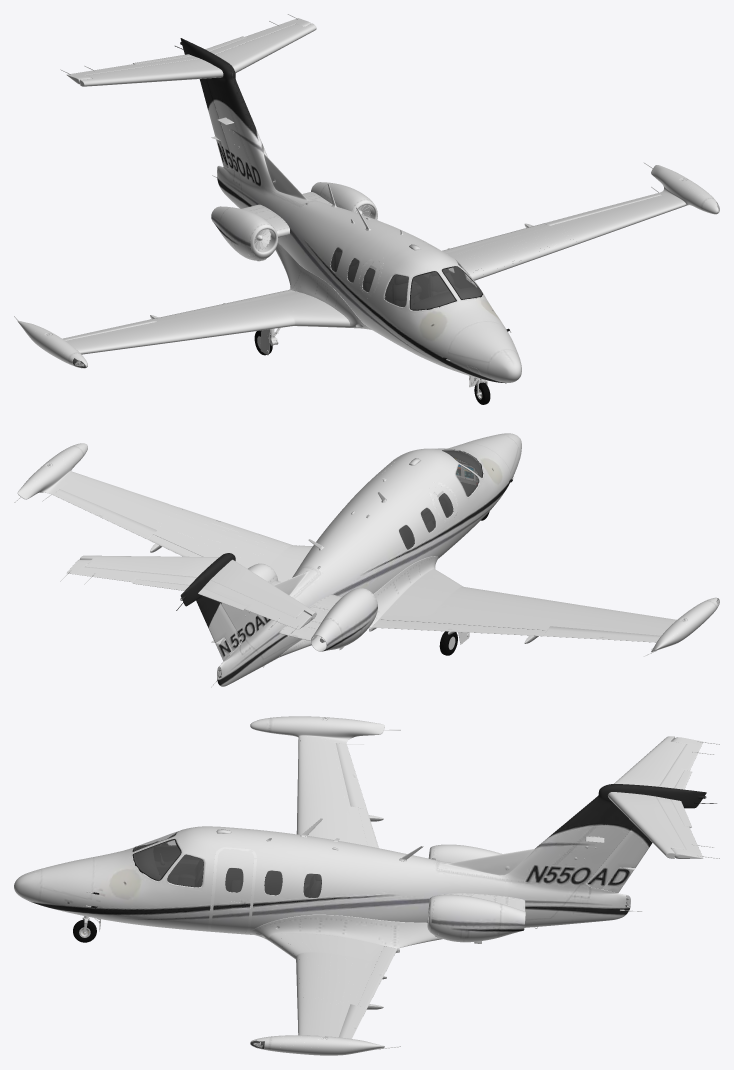
3 renders of one model, top to bottom at view 1: azimuth 30°, elevation 25°; view 2: azimuth 150°, elevation 25°; view 3: azimuth 270°, elevation 25°, orthographic. The views are drawn at different scales.
Visible parts, largest first — view 1: tire_lndg_rear_l_in.011_24, tire_lndg_rear_l_in.033_15, tire_lndg_rear_l_in.030_18, tire_lndg_rear_l_in.044_4, tire_lndg_rear_l_in.031_17, tire_lndg_rear_l_in.032_16, tire_lndg_rear_l_in.027_21; view 2: tire_lndg_rear_l_in.011_24, tire_lndg_rear_l_in.033_15, tire_lndg_rear_l_in.030_18, tire_lndg_rear_l_in.044_4, tire_lndg_rear_l_in.031_17; view 3: tire_lndg_rear_l_in.011_24, tire_lndg_rear_l_in.033_15, tire_lndg_rear_l_in.030_18, tire_lndg_rear_l_in.044_4, tire_lndg_rear_l_in.032_16, tire_lndg_rear_l_in.031_17.
Boxes of the visible parts, x1,y1,x2,y2 form: tire_lndg_rear_l_in.011_24: [17, 18, 718, 383]; tire_lndg_rear_l_in.033_15: [331, 248, 482, 309]; tire_lndg_rear_l_in.030_18: [331, 248, 481, 309]; tire_lndg_rear_l_in.044_4: [14, 14, 658, 399]; tire_lndg_rear_l_in.031_17: [73, 46, 509, 367]; tire_lndg_rear_l_in.032_16: [45, 176, 686, 363]; tire_lndg_rear_l_in.027_21: [250, 200, 377, 258]; tire_lndg_rear_l_in.011_24: [17, 433, 718, 686]; tire_lndg_rear_l_in.033_15: [399, 448, 482, 549]; tire_lndg_rear_l_in.030_18: [399, 451, 482, 549]; tire_lndg_rear_l_in.044_4: [14, 458, 656, 687]; tire_lndg_rear_l_in.031_17: [176, 451, 718, 678]; tire_lndg_rear_l_in.011_24: [14, 716, 706, 1055]; tire_lndg_rear_l_in.033_15: [134, 831, 321, 897]; tire_lndg_rear_l_in.030_18: [134, 835, 321, 897]; tire_lndg_rear_l_in.044_4: [79, 729, 719, 1049]; tire_lndg_rear_l_in.032_16: [86, 717, 630, 1044]; tire_lndg_rear_l_in.031_17: [91, 740, 716, 1048].
Bounding box in the file's own units: 11.6 × 2.94 × 10.56.
14 materials, 2 textured.
